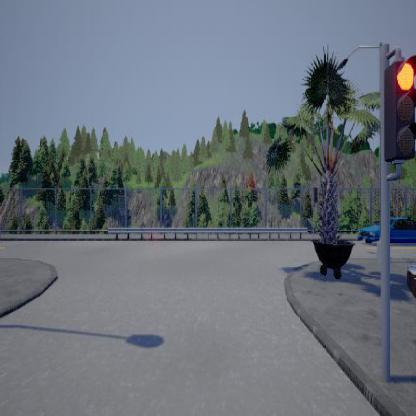traffic_light_red: (384, 45, 416, 179)
vehicle: (358, 215, 416, 242)
